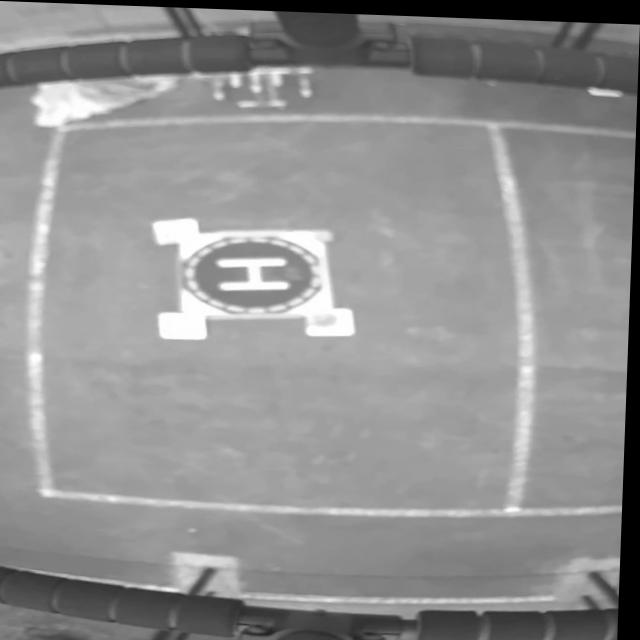Helipad: (217, 254, 293, 288)
